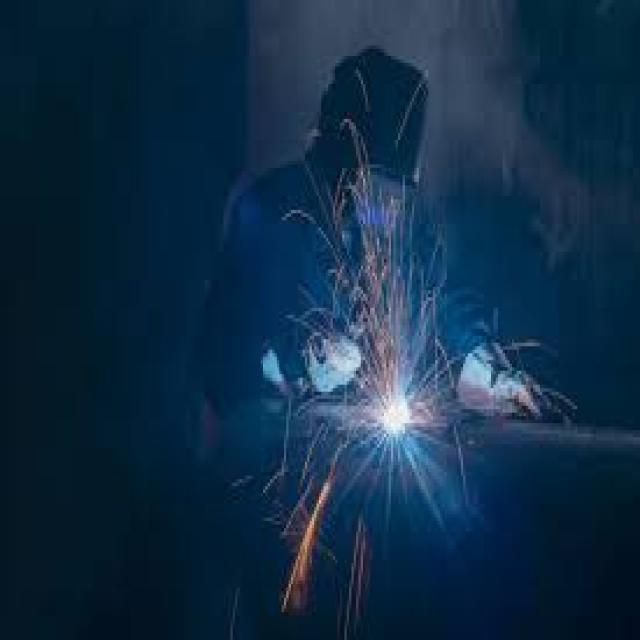welding: (383, 398, 408, 430)
